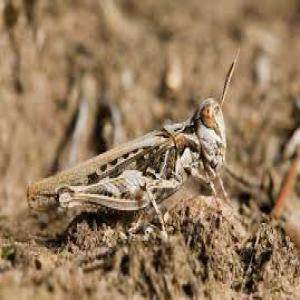locust: (43, 88, 240, 232)
